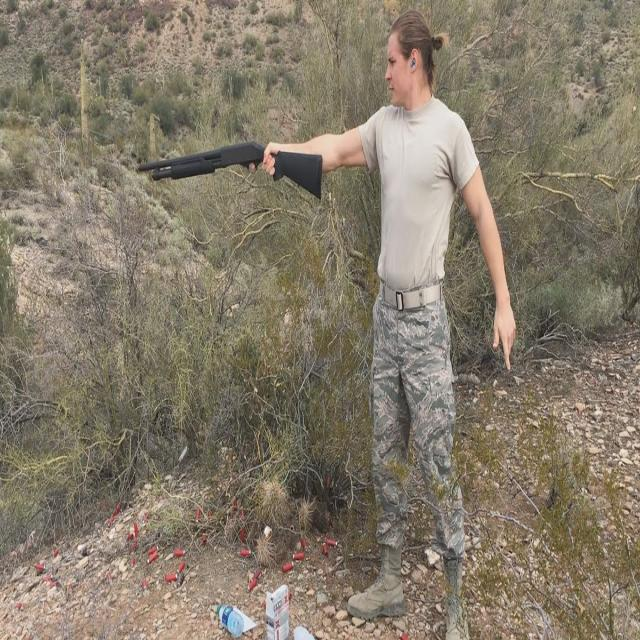ShotGun: (138, 142, 322, 199)
